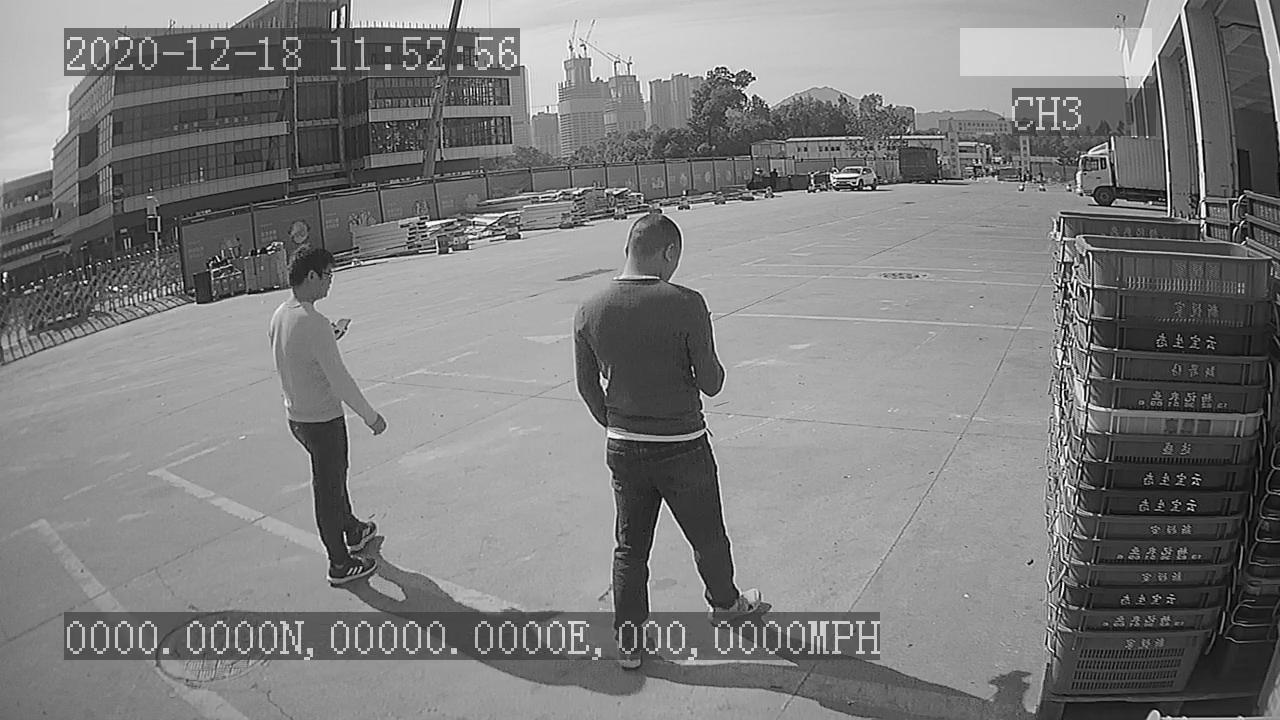person: (260, 235, 397, 594)
